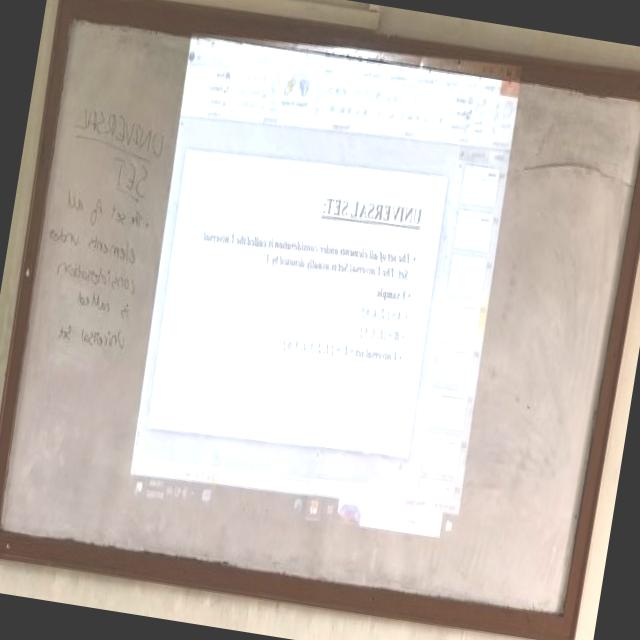Slide: (126, 33, 523, 542)
White-board: (0, 3, 640, 636)
